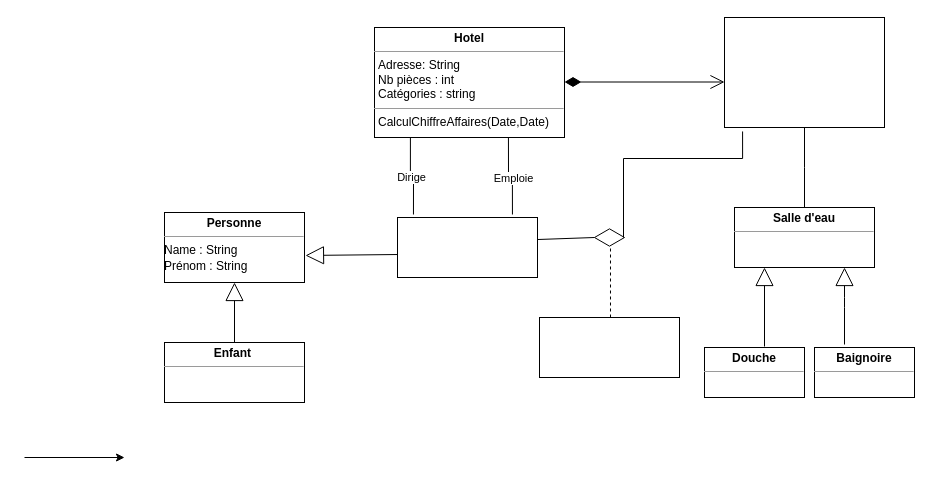
Some shapes in this 932 by 483 pixel diagram are drawn without their labels. Here are the shapes that lost their labels. From the top down, the box of each, then its label:
(724, 16, 884, 128): Chambre Nb lits: Int Prix: Flot Numéro : Int Loyer(Date)
(396, 216, 538, 278): Adulte
(538, 316, 680, 378): Location Date
